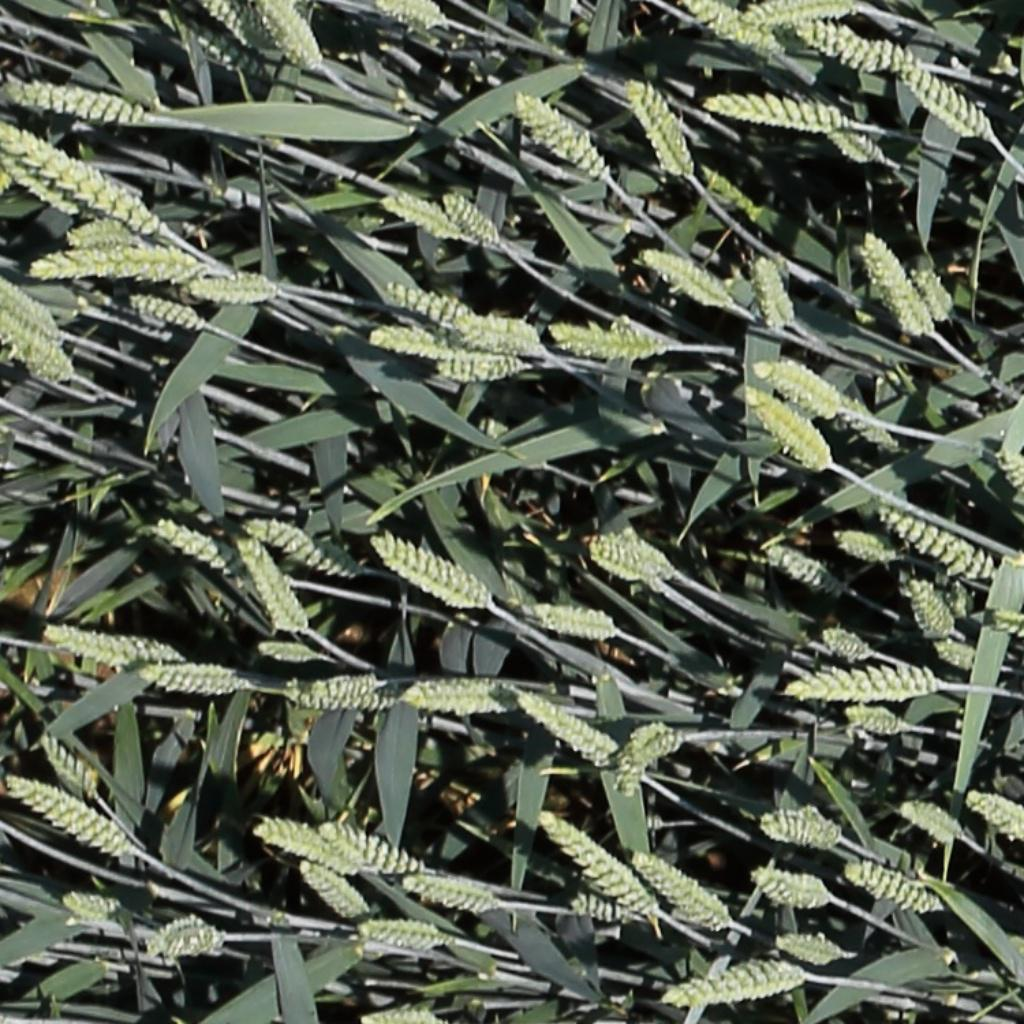0-0: (0, 123, 168, 224), (533, 812, 651, 916), (4, 770, 136, 862), (876, 499, 993, 580), (856, 225, 933, 338), (26, 246, 223, 290), (510, 90, 608, 178), (368, 536, 484, 607), (232, 528, 305, 638), (622, 75, 693, 182), (45, 616, 182, 670), (742, 386, 828, 472), (630, 853, 726, 929), (903, 63, 994, 142), (790, 20, 925, 73), (383, 270, 496, 333), (702, 91, 861, 135), (638, 245, 739, 314), (0, 141, 87, 220), (655, 959, 797, 1007), (516, 693, 613, 761), (245, 518, 354, 577), (320, 826, 432, 879), (613, 720, 683, 800), (781, 665, 940, 700), (178, 264, 296, 311), (251, 823, 357, 875), (6, 83, 148, 121), (148, 518, 243, 574), (397, 674, 525, 715), (0, 309, 72, 379), (843, 864, 939, 916), (184, 15, 264, 77), (253, 0, 320, 73), (686, 1, 778, 54), (753, 360, 841, 415), (547, 324, 677, 361), (383, 192, 475, 243), (453, 313, 551, 359), (35, 733, 99, 802), (293, 861, 365, 921), (368, 327, 484, 364), (597, 525, 677, 578), (125, 292, 219, 337), (696, 161, 763, 221), (901, 573, 958, 643), (761, 543, 839, 593), (749, 249, 795, 333), (438, 188, 501, 244), (580, 540, 655, 587), (143, 661, 246, 695), (200, 1, 267, 53), (0, 275, 58, 334), (400, 879, 495, 913), (430, 357, 536, 387), (151, 911, 223, 955), (757, 806, 836, 846), (357, 912, 447, 946), (963, 793, 1024, 843), (297, 666, 379, 702), (909, 260, 955, 324), (834, 405, 899, 450), (66, 221, 149, 254), (748, 872, 827, 906), (897, 804, 963, 842), (744, 1, 857, 23), (823, 122, 883, 162), (529, 607, 617, 634), (995, 446, 1024, 525), (769, 936, 843, 966), (286, 692, 391, 711), (834, 531, 894, 561), (379, 0, 442, 28), (566, 898, 633, 924), (842, 708, 906, 735), (819, 628, 871, 659), (60, 894, 117, 921), (991, 599, 1023, 645), (932, 640, 981, 670), (252, 641, 314, 662)
